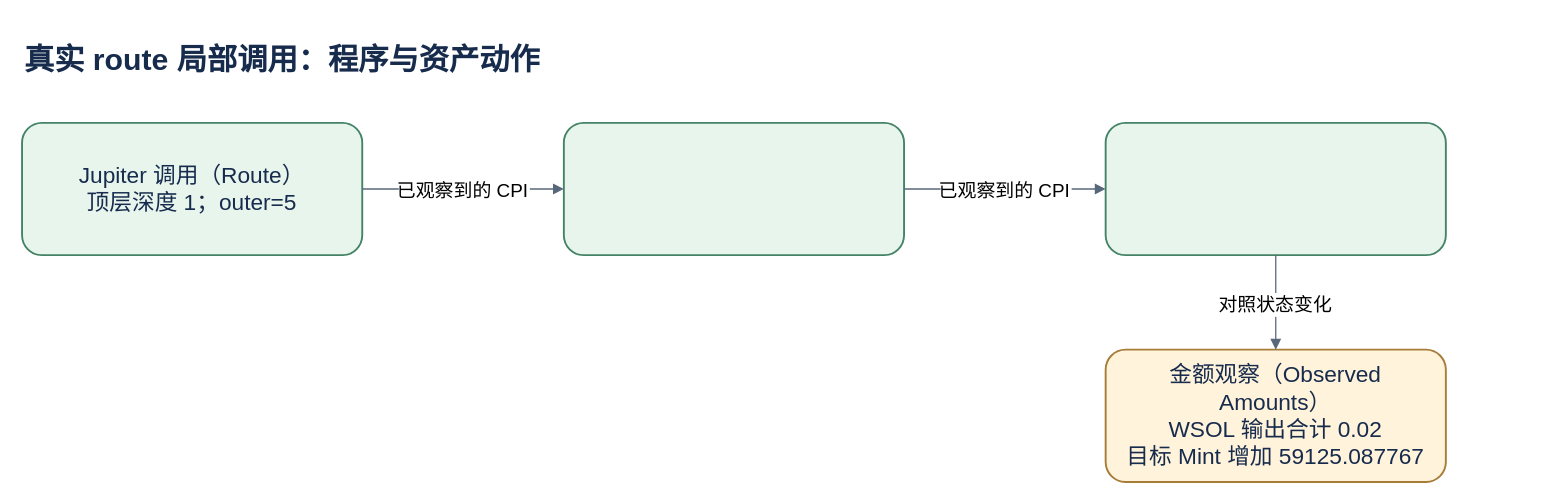
The diagram is 1556 pixels wide and 504 high, and some of its shapes have lost their labels. Each missing label, with the centre of its shape:
PumpSwap 调用（AMM） 内部深度 2: the point at 733,188
Token / Token-2022 调用 转账片段出现深度 3: the point at 1275,188
